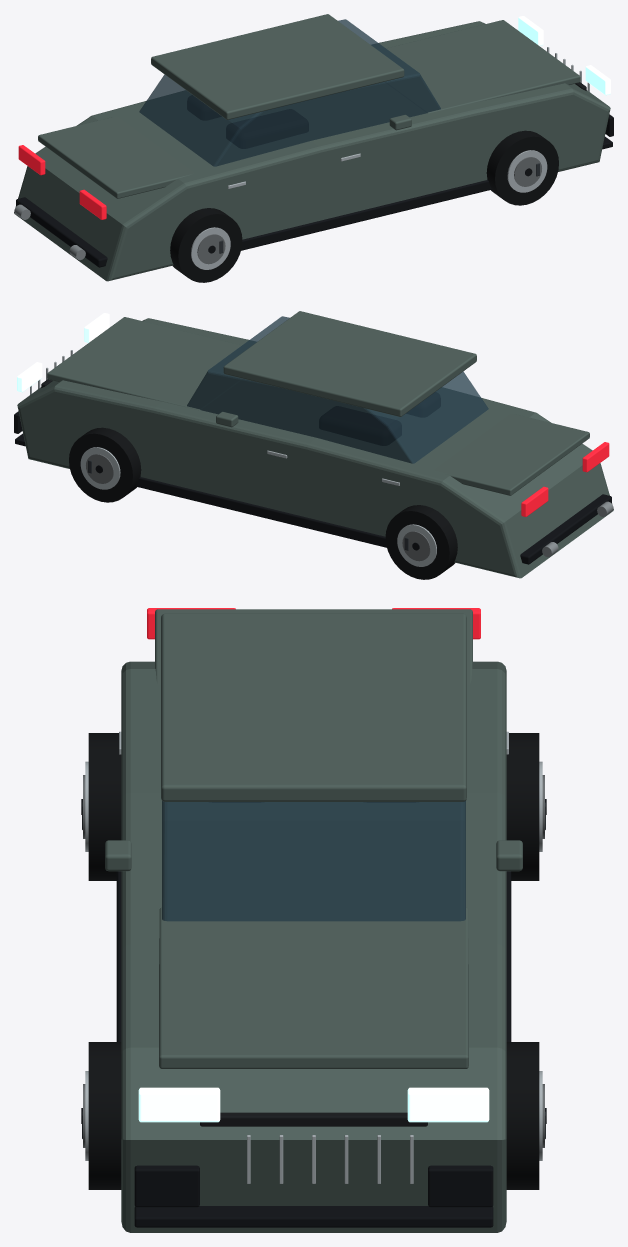
Rendered from rr_ghost_series_ii.glb.
3 renders of one model, top to bottom at view 1: azimuth 30°, elevation 25°; view 2: azimuth 150°, elevation 25°; view 3: azimuth 270°, elevation 25°, orthographic. The views are drawn at different scales.
Parts seen in each view (by area): view 1: sculpted_body, roof, glasshouse, hood_center, rear_deck, rear_right_wheel_tire, front_right_wheel_tire, side_skirt_1, seat_1, rear_diffuser, front_right_wheel_rim, rear_right_wheel_rim (+7 smaller); view 2: sculpted_body, roof, glasshouse, hood_center, rear_deck, rear_left_wheel_tire, front_left_wheel_tire, side_skirt_-1, seat_-1, rear_diffuser, front_left_wheel_rim, rear_left_wheel_rim (+7 smaller); view 3: sculpted_body, roof, hood_center, glasshouse, front_splitter, front_left_wheel_tire, front_right_wheel_tire, rear_left_wheel_tire, rear_right_wheel_tire, front_grille, headlight_left, headlight_right (+7 smaller).
Part boxes in pixels (box(x1,y1,x2,y2)): sculpted_body: box(14, 21, 610, 281); roof: box(151, 14, 404, 119); glasshouse: box(139, 19, 440, 166); hood_center: box(379, 20, 580, 113); rear_deck: box(38, 116, 194, 198); rear_right_wheel_tire: box(170, 208, 242, 282); front_right_wheel_tire: box(486, 130, 558, 205); side_skirt_1: box(241, 180, 491, 250); seat_1: box(226, 109, 308, 148); rear_diffuser: box(16, 197, 107, 267); front_right_wheel_rim: box(507, 150, 547, 192); rear_right_wheel_rim: box(191, 227, 230, 269); sculpted_body: box(17, 318, 613, 578); roof: box(223, 311, 476, 416); glasshouse: box(187, 316, 488, 463); hood_center: box(47, 317, 248, 410); rear_deck: box(433, 413, 589, 495); rear_left_wheel_tire: box(385, 505, 457, 579); front_left_wheel_tire: box(69, 427, 141, 502); side_skirt_-1: box(136, 477, 386, 547); seat_-1: box(319, 406, 401, 445); rear_diffuser: box(520, 494, 611, 564); front_left_wheel_rim: box(80, 447, 120, 489); rear_left_wheel_rim: box(397, 524, 436, 566); sculpted_body: box(121, 661, 506, 1232); roof: box(161, 613, 466, 801); hood_center: box(159, 907, 468, 1068); glasshouse: box(162, 801, 465, 921); front_splitter: box(134, 1206, 493, 1227); front_left_wheel_tire: box(506, 1042, 539, 1189); front_right_wheel_tire: box(88, 1042, 121, 1189); rear_left_wheel_tire: box(506, 733, 539, 880); rear_right_wheel_tire: box(88, 733, 121, 880); front_grille: box(200, 1112, 427, 1126); headlight_left: box(407, 1087, 489, 1122); headlight_right: box(138, 1087, 220, 1122).
Bounding box in the file's own units: 5.92 × 1.58 × 2.26.
